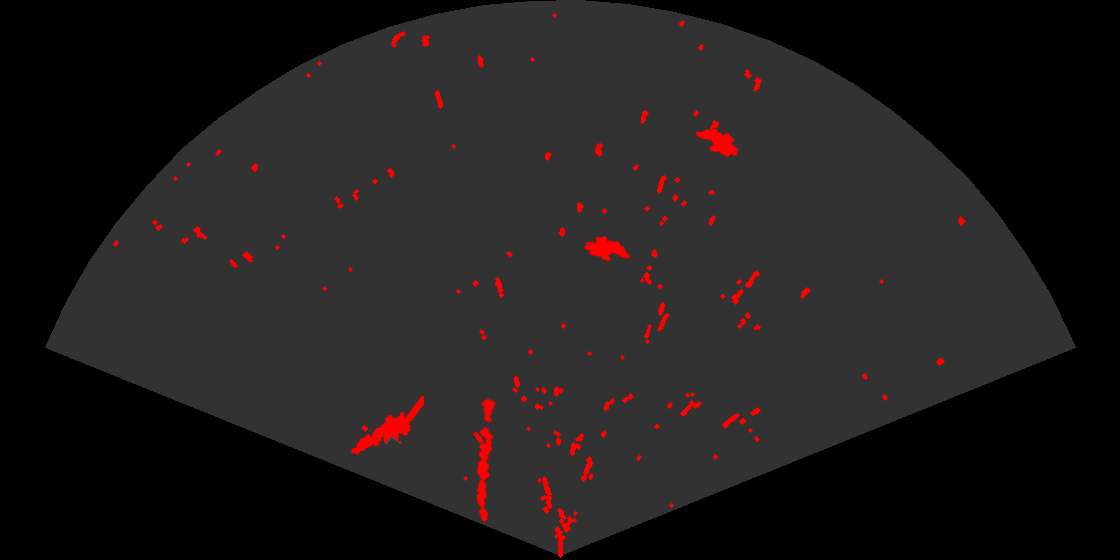AUV: (694, 127, 740, 158), (583, 234, 632, 263)
chain: (474, 395, 497, 524)
frogman: (349, 396, 424, 456)
